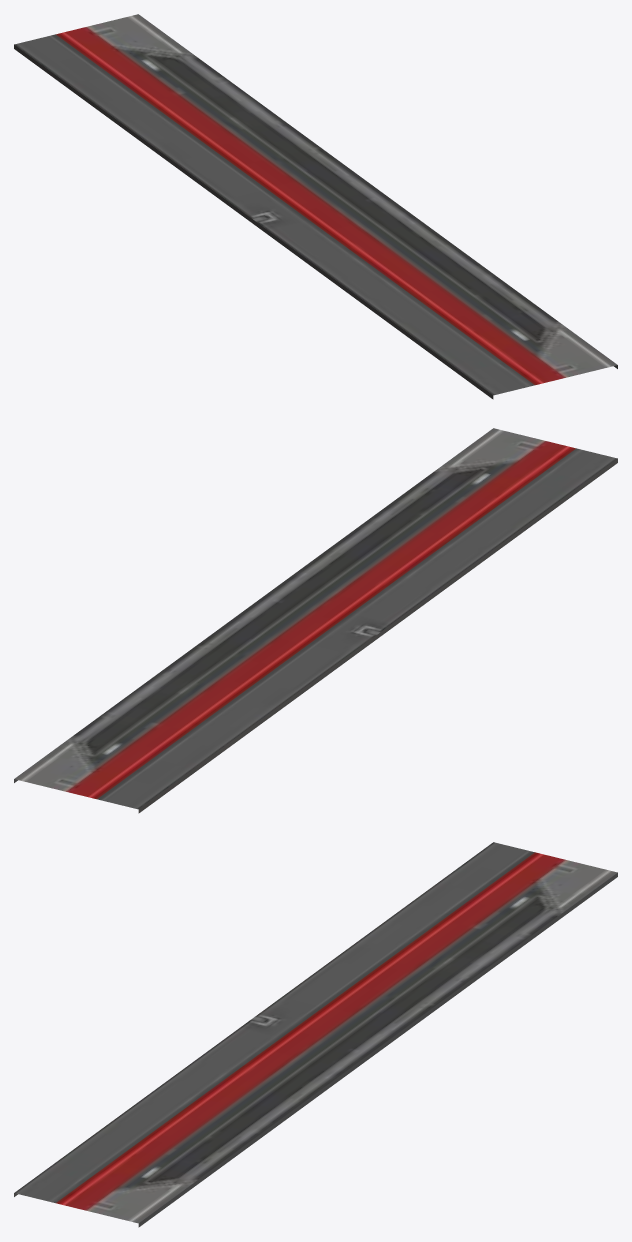
File: BottomAccent_Straight.glb
3 renders of one model, top to bottom at view 1: azimuth 30°, elevation 25°; view 2: azimuth 150°, elevation 25°; view 3: azimuth 330°, elevation 25°, orthographic.
Visible parts, largest first — view 1: BottomAccent_Straight; view 2: BottomAccent_Straight; view 3: BottomAccent_Straight.
Boxes of the visible parts, x1,y1,x2,y2 form: BottomAccent_Straight: [14, 14, 617, 399]; BottomAccent_Straight: [14, 428, 617, 813]; BottomAccent_Straight: [14, 842, 617, 1227].
Bounding box in the file's own units: 0.5999 × 0.02 × 4.
2 materials, 2 textured.
